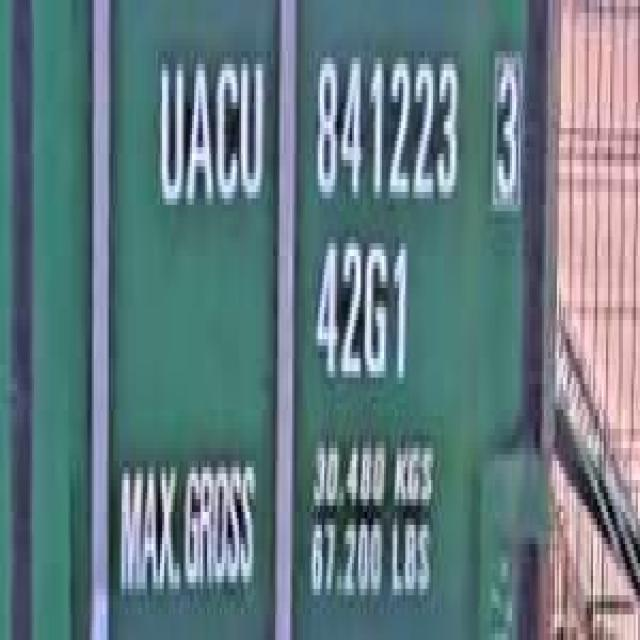dv: (484, 32, 525, 218)
owner: (152, 32, 266, 230)
serial: (307, 32, 463, 218)
size: (309, 224, 412, 397)
